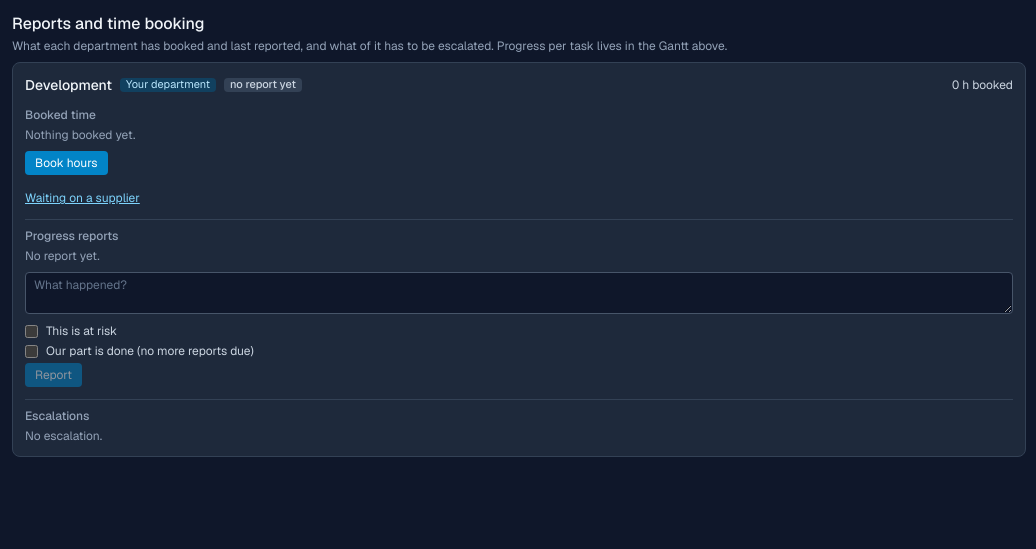
Test case: ImplementationTracking progress reports › reveals the risk-note field on the toggle and will not send it empty
The width and height of the screenshot is (1036, 549).
Later steps or results of the test are not shown.
Type "trial 2 running" into the text box with test id "impl-report-note-2" at (519, 293), box [25, 272, 1013, 314]
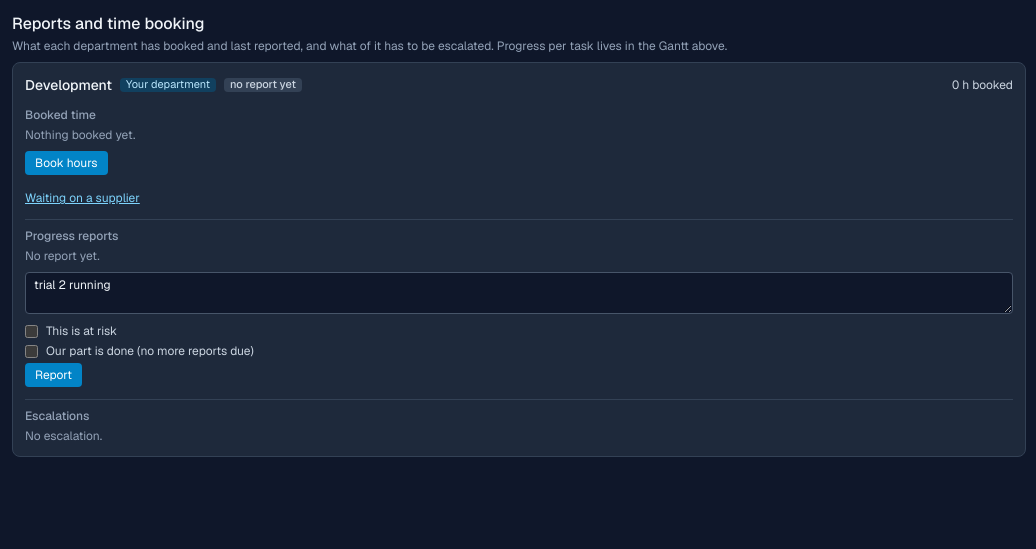
Expected: the button with test id "impl-report-add-2" is enabled, [25, 363, 82, 387]
Click the checkbox with test id "impl-report-atrisk-2" at (32, 331), box [25, 324, 38, 338]
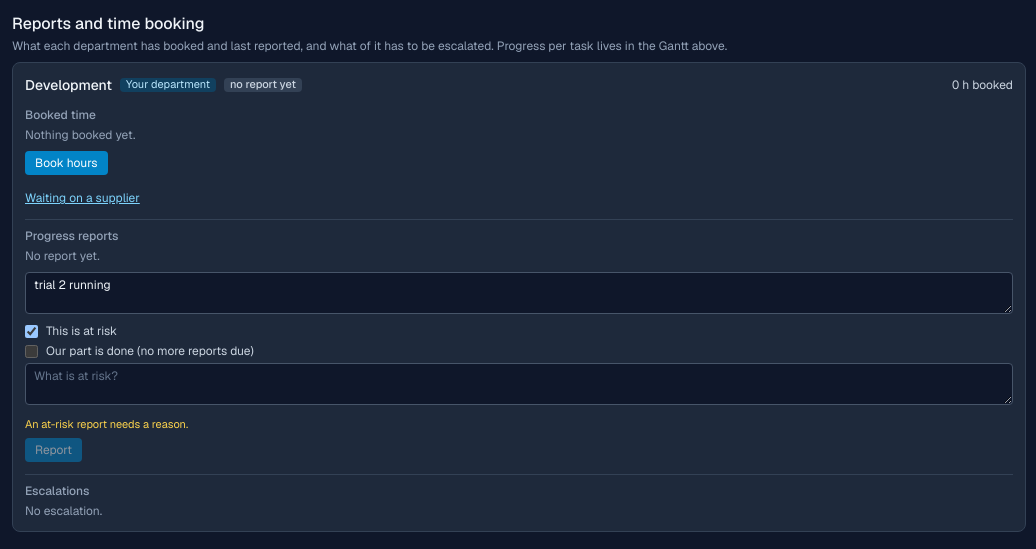
Expected: the text box with test id "impl-report-risknote-input-2" is shown, [25, 363, 1013, 405]
Expected: the button with test id "impl-report-add-2" is disabled, [25, 438, 82, 462]
Expected: the text with test id "impl-report-riskrequired-2" reads "An at-risk report needs a reason.", [25, 417, 188, 431]
